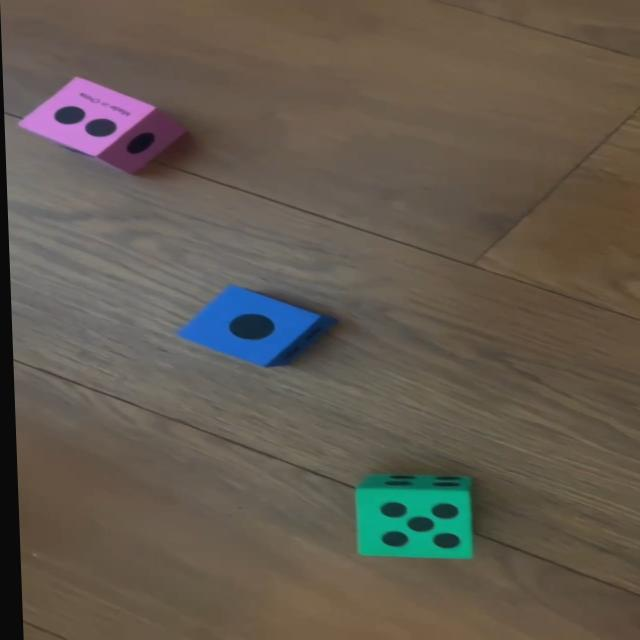cube: (170, 286, 327, 366), (349, 474, 471, 558)
